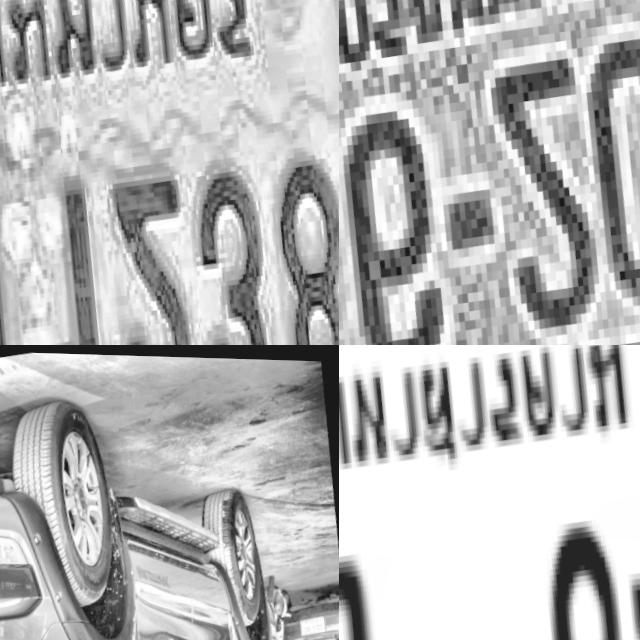license-plate: (0, 0, 339, 345), (339, 0, 640, 345), (339, 345, 640, 640)
